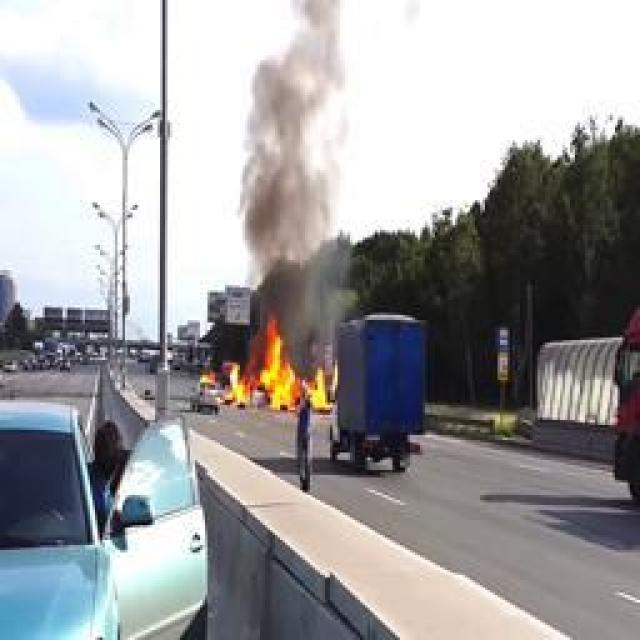Fire: (230, 318, 338, 414)
